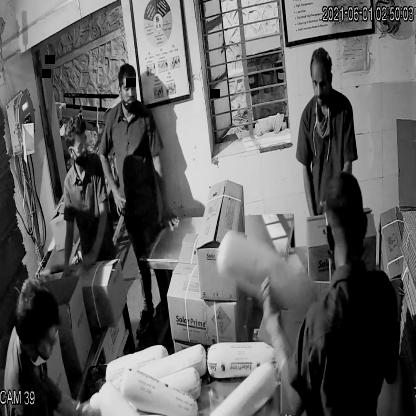goggles: (66, 132, 91, 160)
no_goggles: (308, 73, 336, 95)
